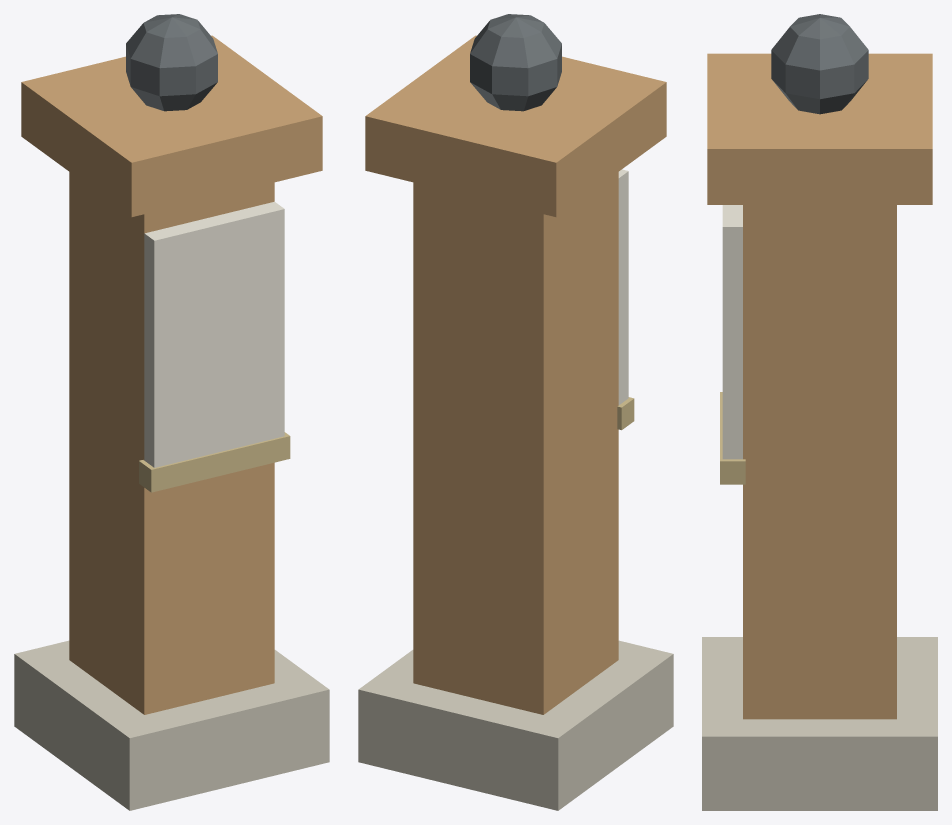
File: lists-fence-corner-post.glb
3 renders of one model, left to right at view 1: azimuth 30°, elevation 25°; view 2: azimuth 150°, elevation 25°; view 3: azimuth 270°, elevation 25°, orthographic. The views are drawn at different scales.
Parts seen in each view (by area): view 1: lists-fence-corner-post; view 2: lists-fence-corner-post; view 3: lists-fence-corner-post.
Boxes of the visible parts, x1=… form: lists-fence-corner-post: x1=14, y1=14, x2=329, y2=810; lists-fence-corner-post: x1=358, y1=14, x2=673, y2=810; lists-fence-corner-post: x1=702, y1=14, x2=937, y2=810.
Size of the model in its own units: 0.46 by 1.6 by 0.46.
